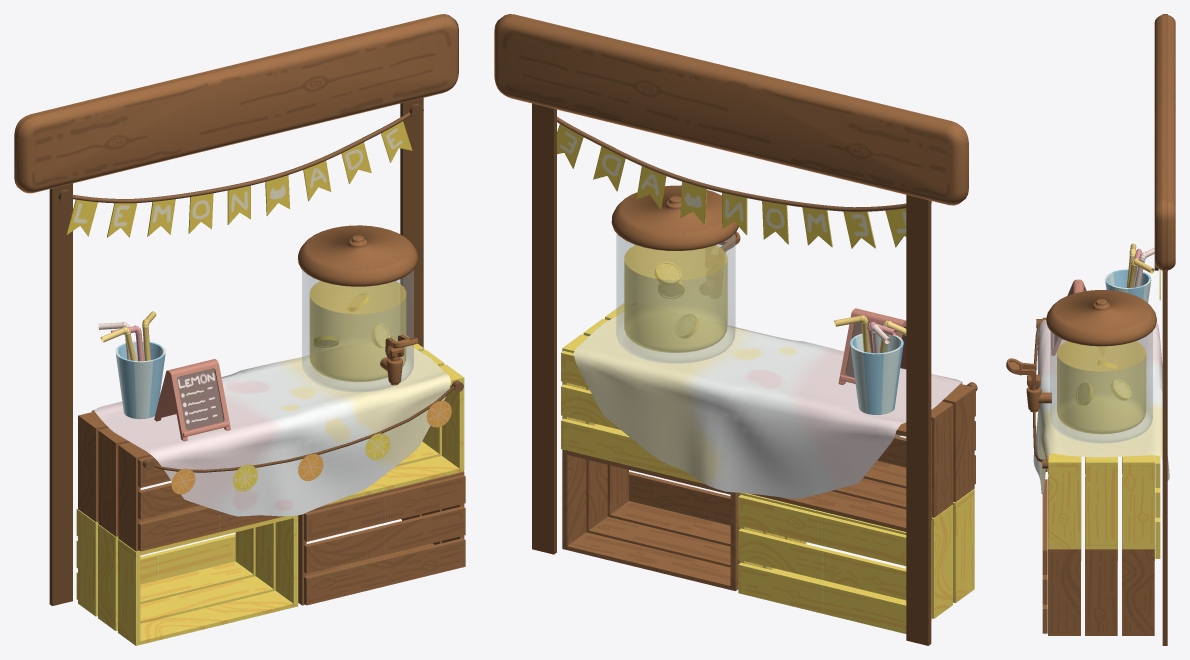
The model's file is detailed_stand-v2.glb.
3 views of the same model, side by side, from view 1: azimuth 30°, elevation 25°; view 2: azimuth 150°, elevation 25°; view 3: azimuth 270°, elevation 25° (orthographic). The views are drawn at different scales.
Parts seen in each view (by area): view 1: Letrero, Mantel, Caja_01, Caja_03, Postes, Caja_02, Tarro, Jugo, Banderines, Tapa, Caja_04, Pizarra (+4 smaller); view 2: Letrero, Mantel, Postes, Caja_01, Caja_03, Tarro, Jugo, Caja_02, Banderines, Caja_04, Tapa, Vaso (+2 smaller); view 3: Tarro, Caja_04, Caja_03, Jugo, Mantel, Letrero, Tapa, Postes, Llave, Vaso, Pizarra, Lemon.002 (+3 smaller).
Part boxes in pixels (x1,y1,x2,y2): Letrero: (14,14,458,193); Mantel: (91,345,450,516); Caja_01: (76,509,298,645); Caja_03: (298,471,465,605); Postes: (49,97,423,605); Caja_02: (78,411,283,551); Tarro: (302,270,413,391); Jugo: (309,281,406,382); Banderines: (66,121,412,237); Tapa: (298,225,417,286); Caja_04: (323,335,464,505); Pizarra: (154,359,230,441); Letrero: (494,14,968,205); Mantel: (573,312,962,498); Postes: (532,103,931,645); Caja_01: (738,489,974,633); Caja_03: (562,449,739,590); Tarro: (616,233,735,363); Jugo: (624,245,727,352); Caja_02: (750,384,975,531); Banderines: (557,124,906,248); Caja_04: (561,303,704,483); Tapa: (611,185,738,250); Vaso: (850,333,903,414); Tarro: (1050,331,1152,443); Caja_04: (1048,453,1160,548); Caja_03: (1042,477,1154,635); Jugo: (1057,341,1146,434); Mantel: (1033,320,1169,493); Letrero: (1154,14,1175,271); Tapa: (1046,290,1156,346); Postes: (1162,271,1167,645); Llave: (1006,358,1051,412); Vaso: (1105,269,1151,302); Pizarra: (1051,279,1086,355); Lemon.002: (1076,383,1092,405).
Size of the model in its own units: 6.81 by 7.29 by 2.46.
Materials: 20 (18 with a texture image).
